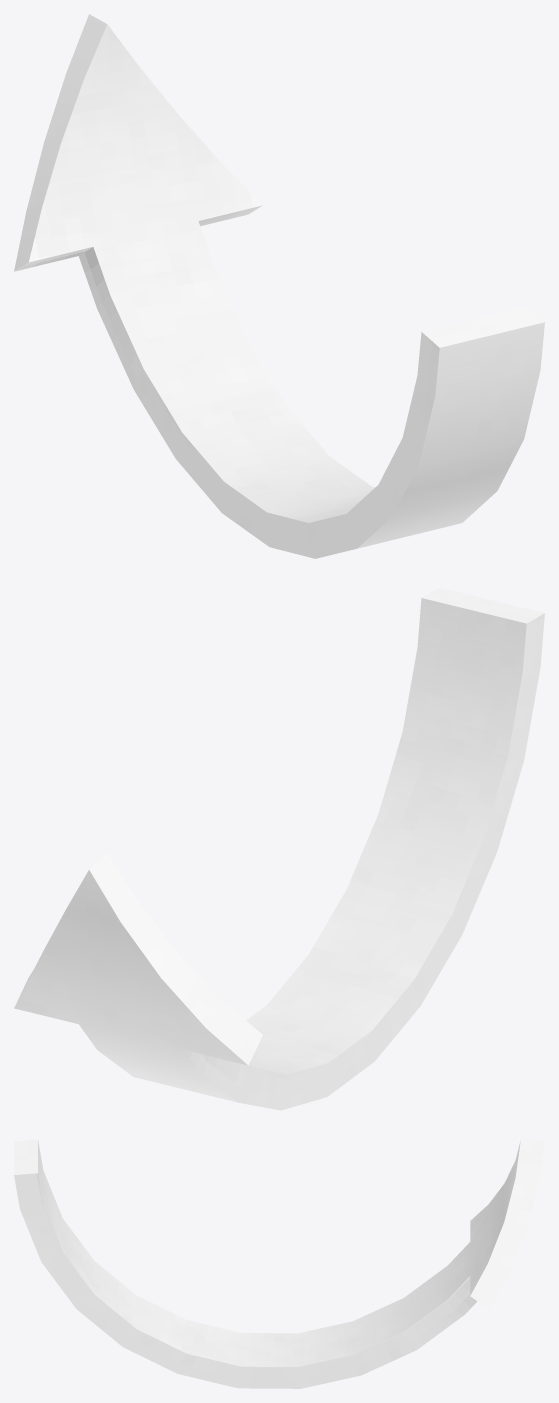
The model's file is ArrowCurve.glb.
3 views of the same model, one above another, from view 1: azimuth 30°, elevation 25°; view 2: azimuth 150°, elevation 25°; view 3: azimuth 270°, elevation 25° (orthographic). The views are drawn at different scales.
Parts seen in each view (by area): view 1: ArrowCurve; view 2: ArrowCurve; view 3: ArrowCurve.
Part boxes in pixels (box(x1,y1,x2,y2)): ArrowCurve: box(14, 14, 544, 558); ArrowCurve: box(14, 587, 544, 1110); ArrowCurve: box(14, 1139, 544, 1388).
Size of the model in its own units: 0.099 by 0.1428 by 0.2951.
1 material, 1 textured.
